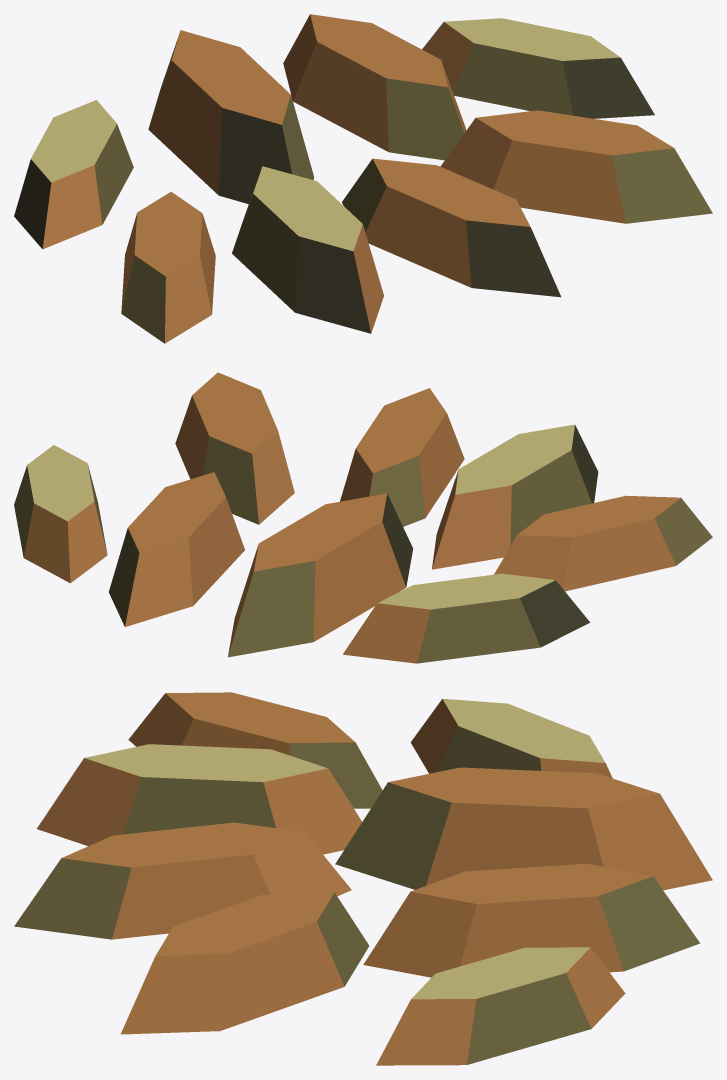
File: spread-toasted-emberwheat.fbx
The picture shows the model from 3 angles, top to bottom: view 1: azimuth 30°, elevation 25°; view 2: azimuth 150°, elevation 25°; view 3: azimuth 270°, elevation 25°; orthographic projection. The views are drawn at different scales.
Visible parts, largest first — view 1: toasted-kernel-3, toasted-kernel-2, toasted-kernel-6, toasted-kernel-5, toasted-kernel-1, toasted-kernel-7, toasted-kernel-4, toasted-kernel-0; view 2: toasted-kernel-5, toasted-kernel-4, toasted-kernel-1, toasted-kernel-0, toasted-kernel-6, toasted-kernel-3, toasted-kernel-2, toasted-kernel-7; view 3: toasted-kernel-5, toasted-kernel-6, toasted-kernel-2, toasted-kernel-1, toasted-kernel-3, toasted-kernel-7, toasted-kernel-0, toasted-kernel-4.
Boxes of the visible parts, x1,y1,x2,y2 form: toasted-kernel-3: [440, 110, 712, 223]; toasted-kernel-2: [342, 158, 560, 297]; toasted-kernel-6: [283, 14, 466, 160]; toasted-kernel-5: [148, 30, 314, 204]; toasted-kernel-1: [232, 166, 383, 333]; toasted-kernel-7: [422, 18, 654, 118]; toasted-kernel-4: [14, 100, 133, 249]; toasted-kernel-0: [121, 191, 215, 343]; toasted-kernel-5: [228, 493, 413, 657]; toasted-kernel-4: [343, 573, 589, 663]; toasted-kernel-1: [432, 424, 598, 569]; toasted-kernel-0: [494, 495, 712, 591]; toasted-kernel-6: [109, 472, 244, 626]; toasted-kernel-3: [175, 372, 294, 524]; toasted-kernel-2: [340, 388, 464, 526]; toasted-kernel-7: [14, 445, 107, 583]; toasted-kernel-5: [335, 767, 712, 890]; toasted-kernel-6: [363, 863, 699, 977]; toasted-kernel-2: [14, 822, 351, 939]; toasted-kernel-1: [37, 744, 361, 854]; toasted-kernel-3: [120, 892, 369, 1034]; toasted-kernel-7: [376, 947, 625, 1065]; toasted-kernel-0: [128, 692, 382, 808]; toasted-kernel-4: [410, 698, 612, 778].
Bounding box in the file's own units: 0.4989 × 0.06 × 0.4509.
1 material, 1 textured.
